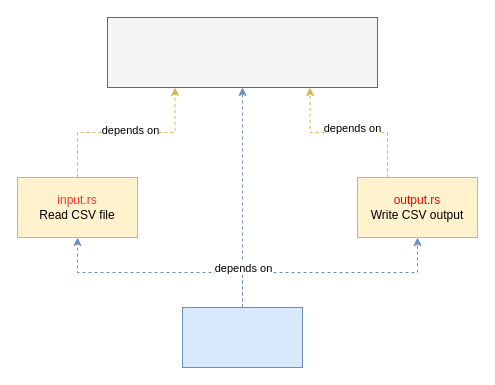
This 495x385 diagram has some shape labels left out. Each missing label, with the centre of its shape:
"mod ledger Ledger + Account + Transaction (Domain entities + Business logic)" belongs at [242,52].
"run.rs Plug everything together" belongs at [242,337].
